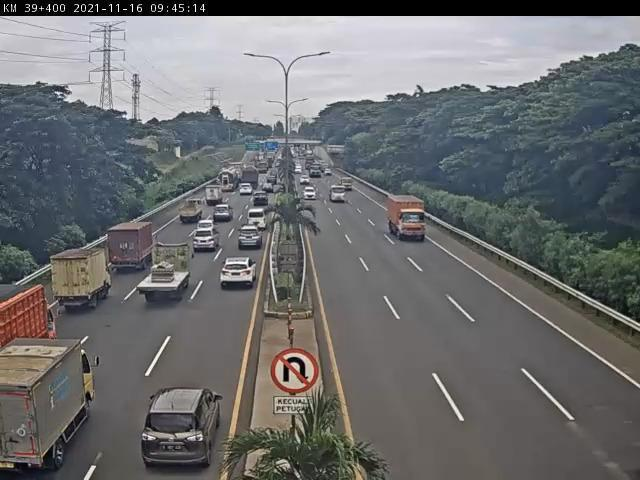car: (144, 389, 223, 470), (221, 257, 259, 289), (194, 228, 221, 252), (239, 232, 263, 255), (250, 208, 269, 231), (214, 203, 234, 224), (195, 219, 217, 236), (252, 197, 270, 210)
truck: (134, 243, 194, 301), (54, 250, 110, 308), (107, 221, 156, 269), (388, 194, 428, 240), (178, 198, 204, 226), (204, 183, 223, 207)
